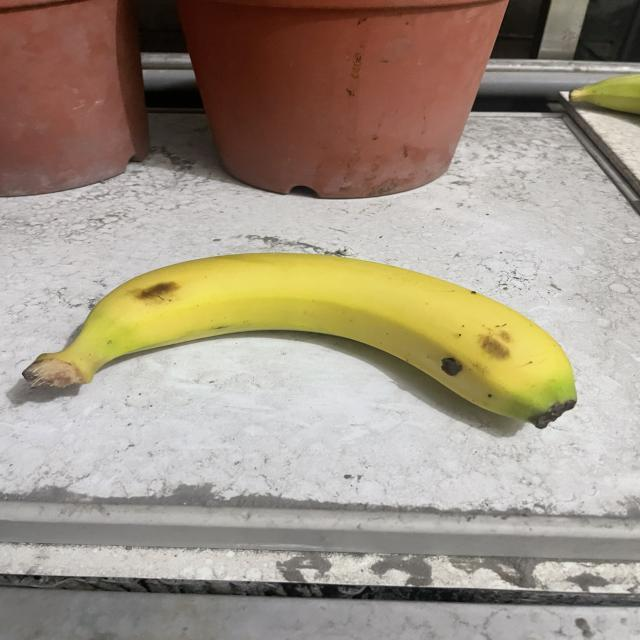Banana: (21, 246, 582, 427)
